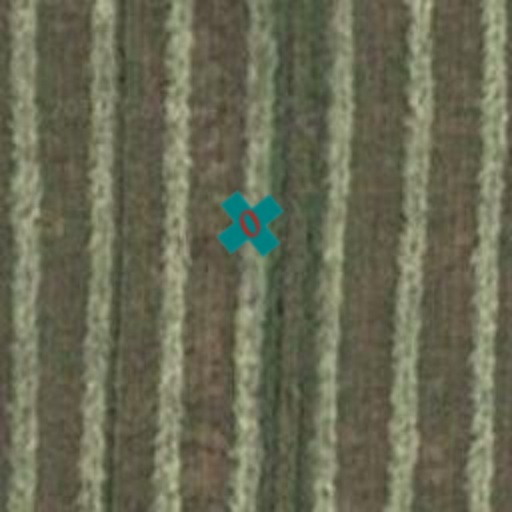cross: (202, 176, 298, 272)
